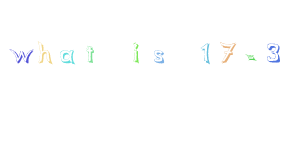-: (244, 47, 259, 70)
1: (194, 37, 214, 68)
3: (261, 40, 287, 65)
7: (217, 38, 240, 69)
a: (57, 47, 76, 67)
h: (35, 41, 55, 68)
i: (122, 41, 145, 68)
s: (149, 43, 169, 70)
t: (80, 46, 101, 67)
w: (5, 39, 34, 69)
